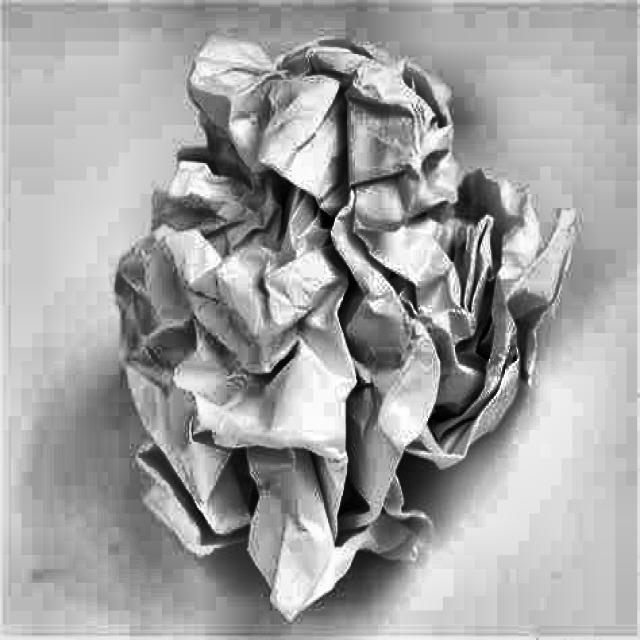Paper: (100, 0, 586, 608)
